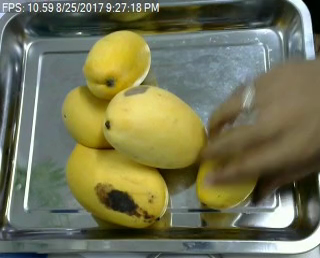Mango: (66, 140, 167, 225), (102, 83, 203, 168), (86, 30, 150, 100), (198, 131, 256, 208), (62, 86, 117, 149)
